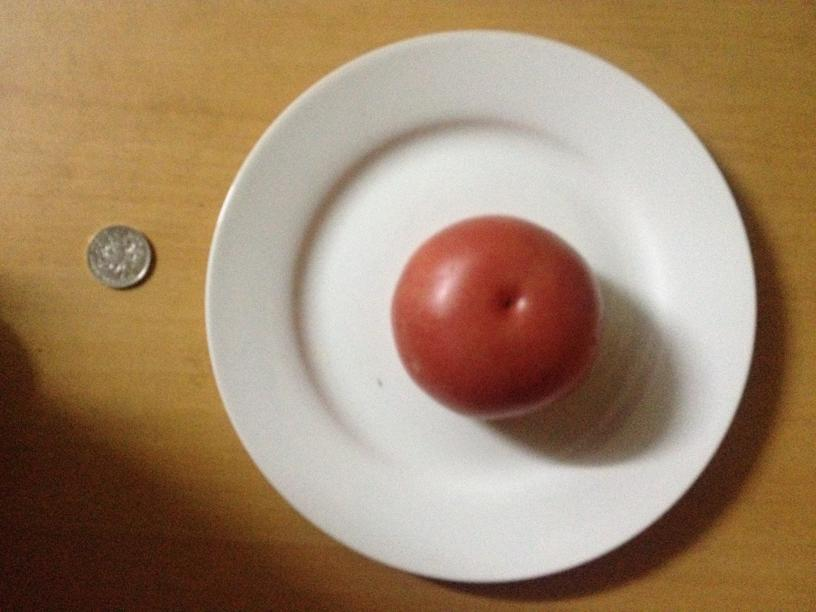coin: (83, 223, 155, 289)
tomato: (121, 264, 192, 328)
